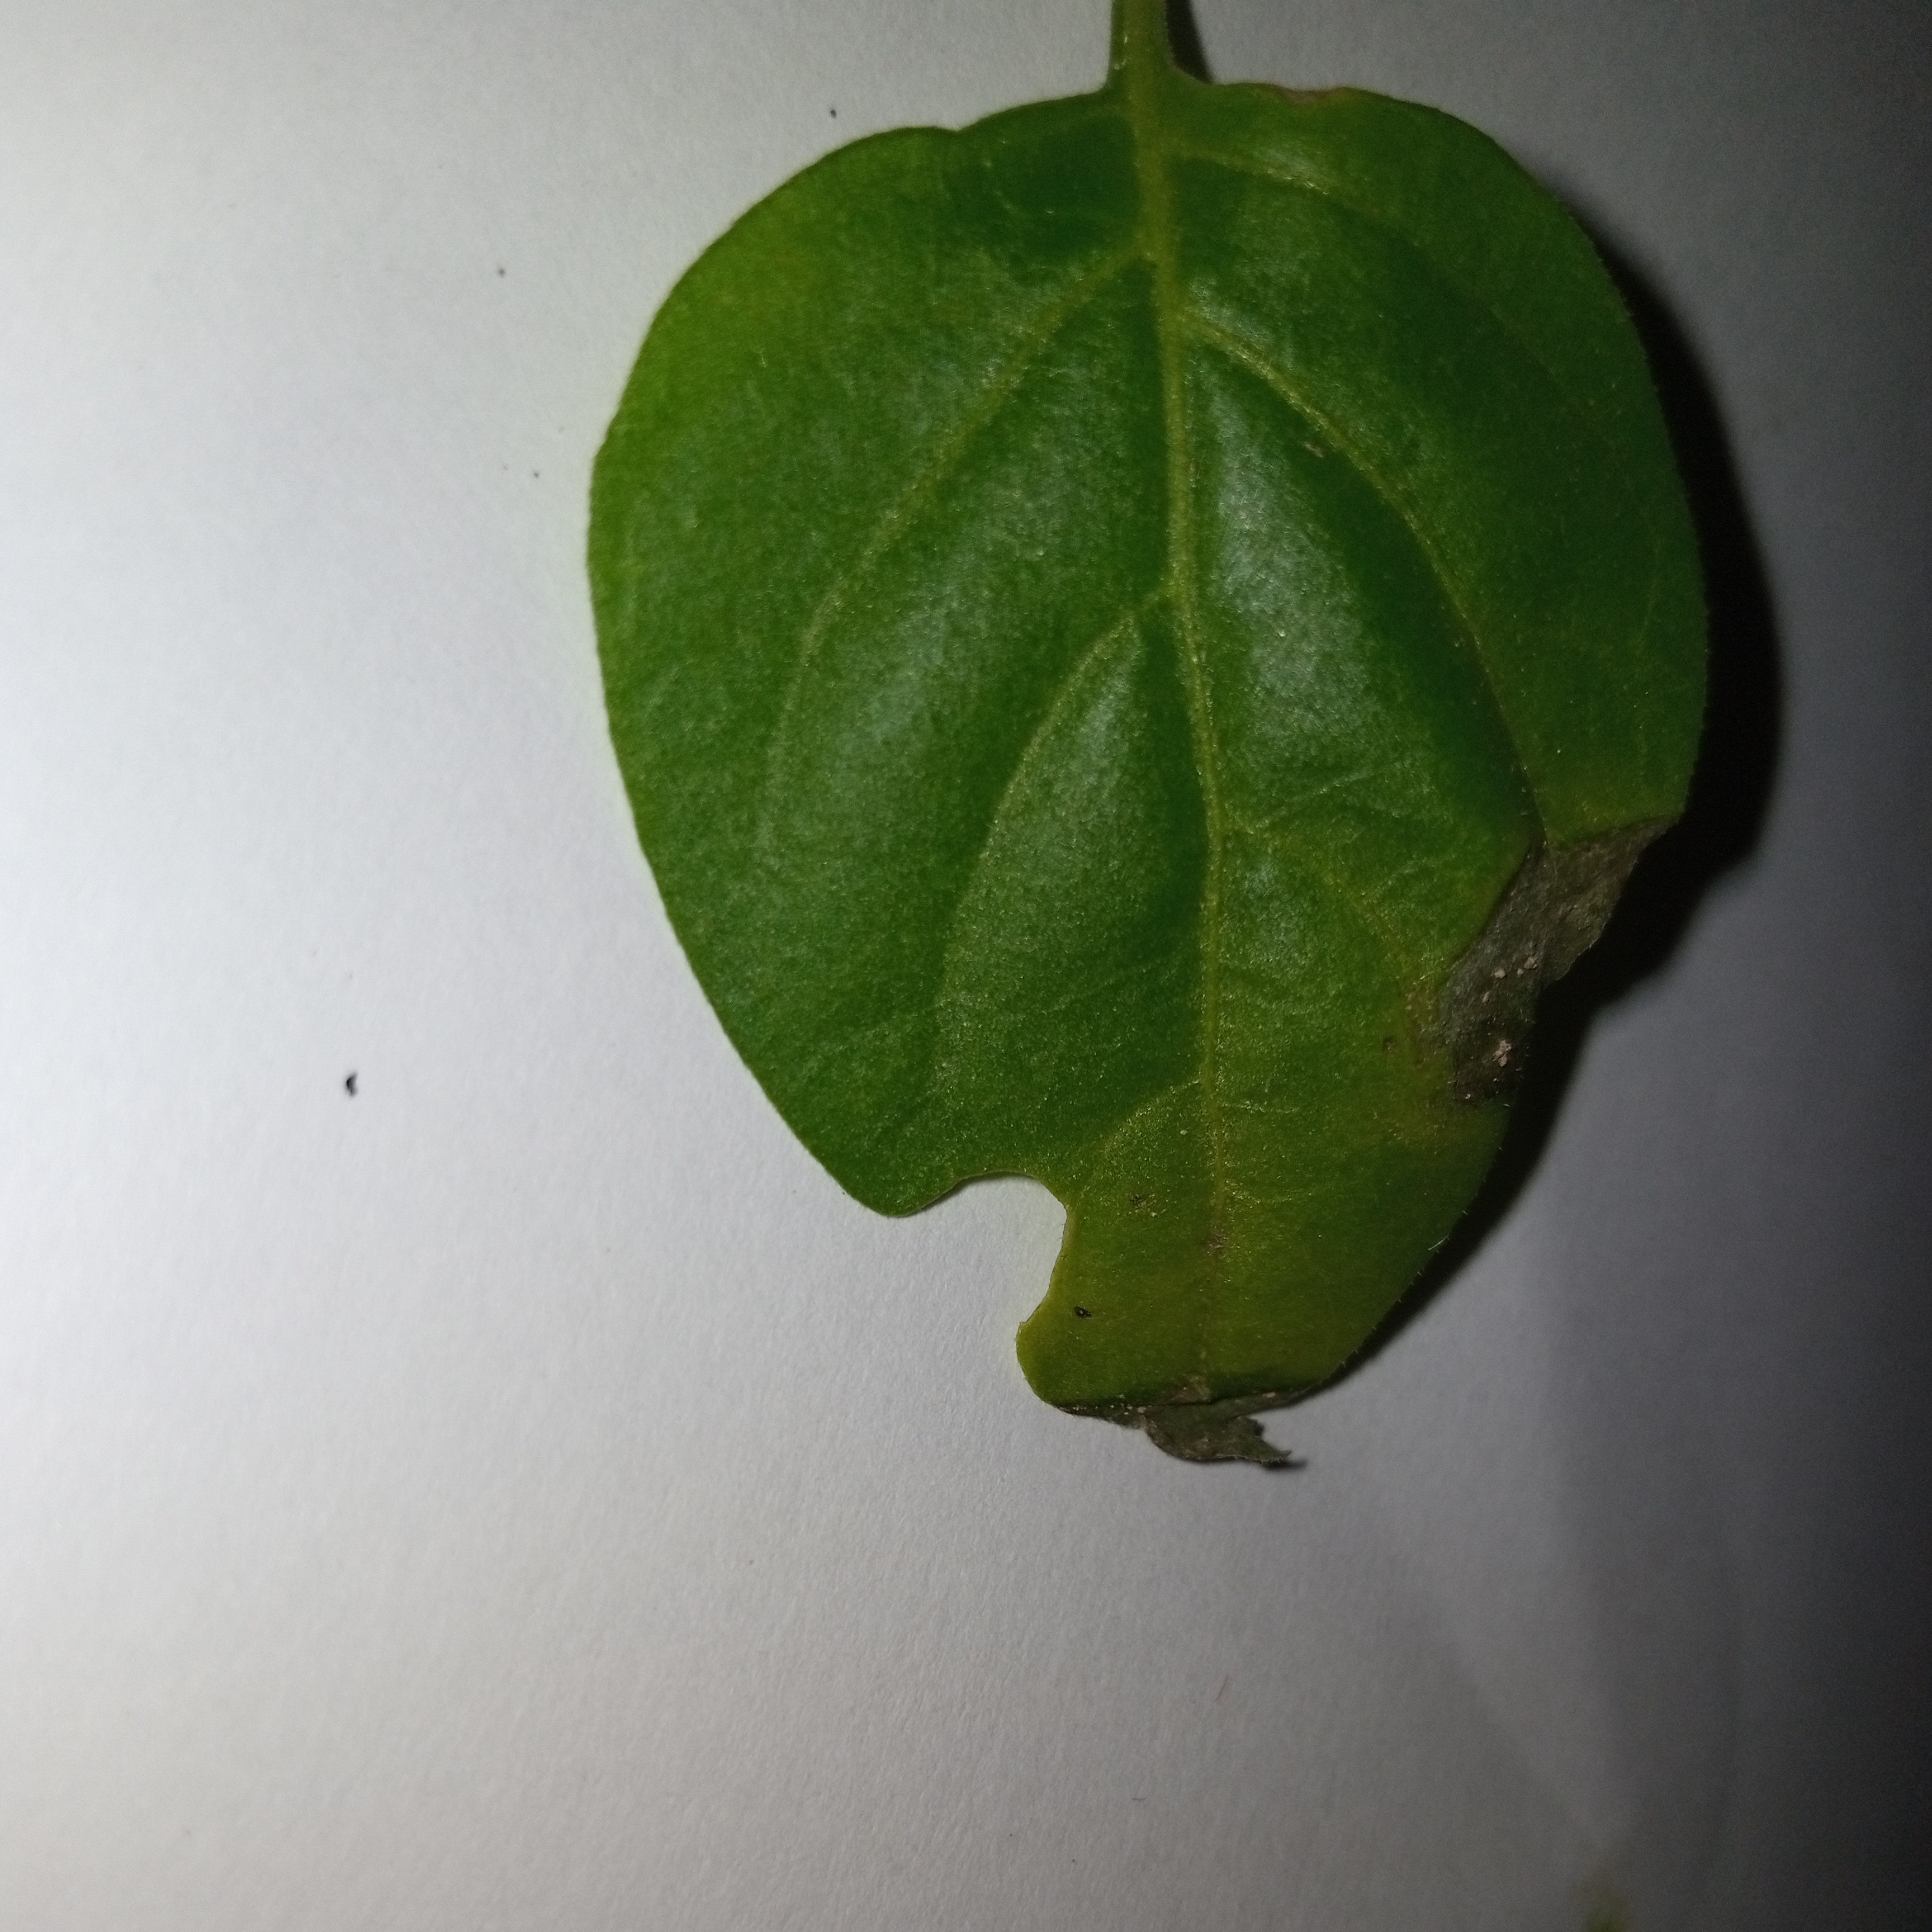Leaf: (508, 48, 1819, 1642)
